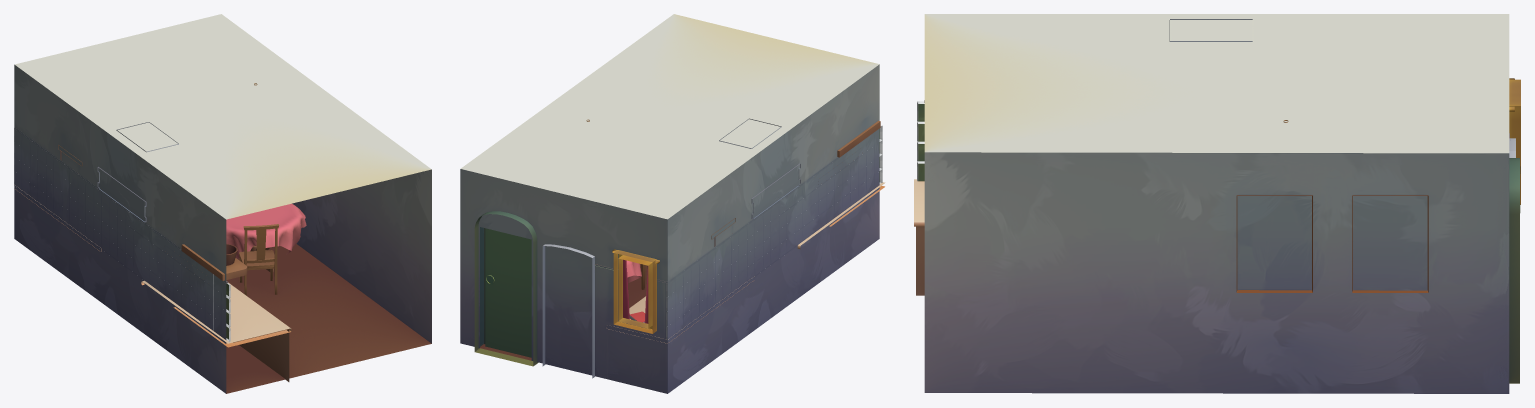
File: SuarezM_PII_ModeloEscenarioCocina_Texturizado.fbx
The picture shows the model from 3 angles, left to right: view 1: azimuth 30°, elevation 25°; view 2: azimuth 150°, elevation 25°; view 3: azimuth 270°, elevation 25°; orthographic projection. The views are drawn at different scales.
Parts seen in each view (by area): view 1: Estancia, Encimera.001, MantelMesa, Silla, Encimera, Estanteria.002, Azulejos, Campana; view 2: Estancia, Puerta, Ventana, Frigorifico, Encimera.001, Estanteria.002; view 3: Estancia, Puerta, Ventana, Azulejos, Encimera, Cuadro, Cuadro.001.
Boxes of the visible parts, x1=… form: Estancia: x1=14, y1=14, x2=431, y2=393; Encimera.001: x1=141, y1=280, x2=291, y2=347; MantelMesa: x1=226, y1=203, x2=306, y2=258; Silla: x1=239, y1=224, x2=278, y2=295; Encimera: x1=233, y1=329, x2=289, y2=381; Estanteria.002: x1=181, y1=244, x2=247, y2=280; Azulejos: x1=14, y1=128, x2=230, y2=342; Campana: x1=97, y1=122, x2=178, y2=222; Estancia: x1=460, y1=14, x2=879, y2=393; Puerta: x1=474, y1=211, x2=538, y2=366; Ventana: x1=613, y1=250, x2=656, y2=333; Frigorifico: x1=542, y1=244, x2=594, y2=378; Encimera.001: x1=797, y1=182, x2=885, y2=249; Estanteria.002: x1=837, y1=120, x2=880, y2=157; Estancia: x1=924, y1=14, x2=1509, y2=393; Puerta: x1=1509, y1=158, x2=1520, y2=383; Ventana: x1=1509, y1=79, x2=1520, y2=204; Azulejos: x1=917, y1=101, x2=924, y2=181; Encimera: x1=916, y1=226, x2=924, y2=295; Cuadro: x1=1236, y1=195, x2=1312, y2=292; Cuadro.001: x1=1352, y1=195, x2=1428, y2=292.
Size of the model in its own units: 2760 by 2201 by 4959.
4 materials, 4 textured.
